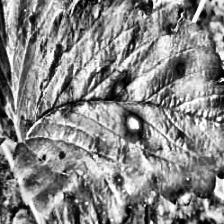Leaf Spot: (11, 0, 224, 224), (0, 0, 86, 129)
